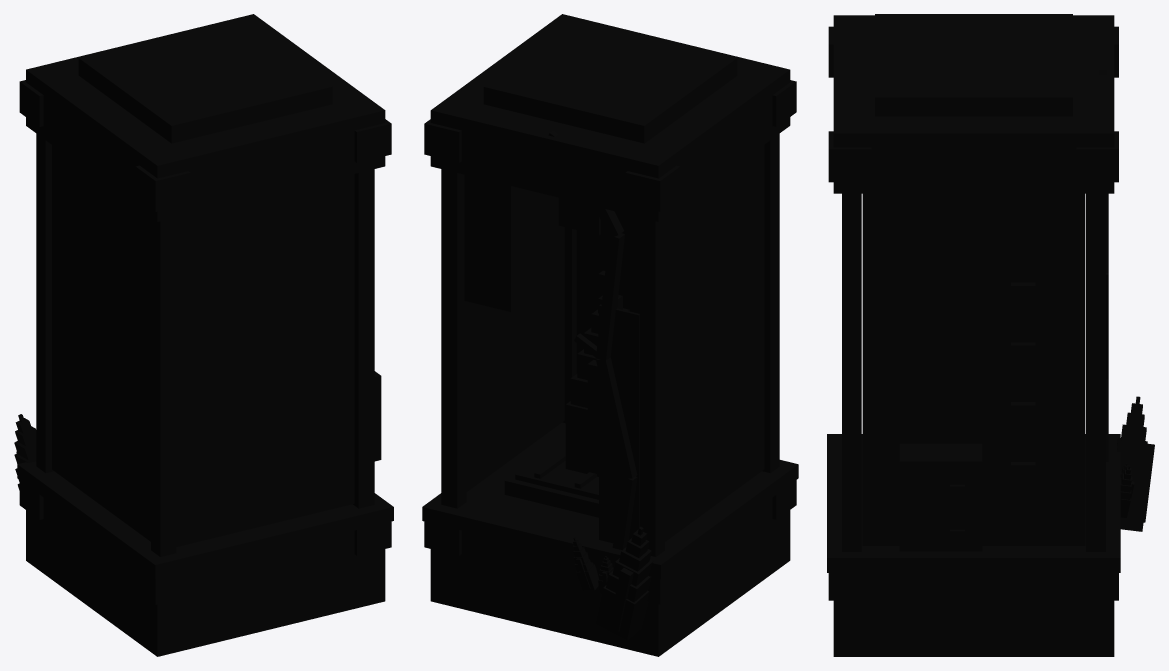
The model's file is incubator_eroded.obj.
The picture shows the model from 3 angles, left to right: view 1: azimuth 30°, elevation 25°; view 2: azimuth 150°, elevation 25°; view 3: azimuth 270°, elevation 25°; orthographic projection. The views are drawn at different scales.
Bounding box in the file's own units: 0.4743 × 0.875 × 0.4795.
